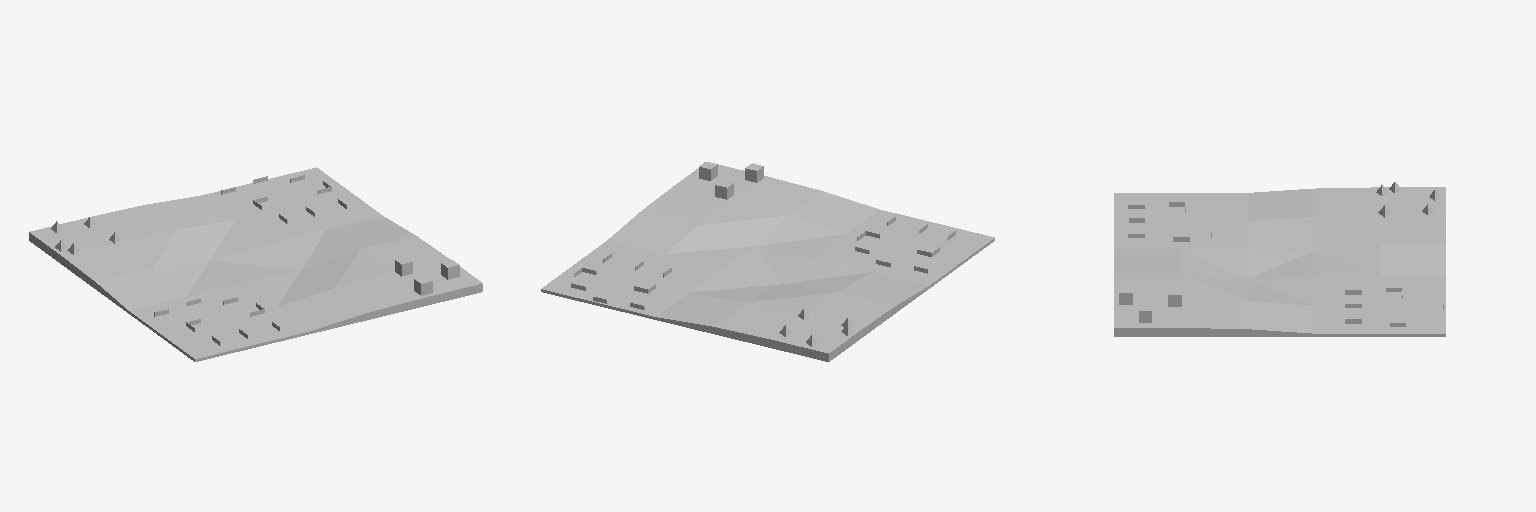
The model's file is Level3.obj.
3 views of the same model, side by side, from view 1: azimuth 30°, elevation 25°; view 2: azimuth 150°, elevation 25°; view 3: azimuth 270°, elevation 25° (orthographic).
Visible parts, largest first — view 1: initialShadingGroup pCube27; view 2: initialShadingGroup pCube27; view 3: initialShadingGroup pCube27.
Boxes of the visible parts, box(x1,y1,x2,y2) form: initialShadingGroup pCube27: box(29, 167, 482, 361); initialShadingGroup pCube27: box(541, 162, 994, 361); initialShadingGroup pCube27: box(1114, 187, 1445, 336).
Bounding box in the file's own units: 100 × 6.85 × 100.